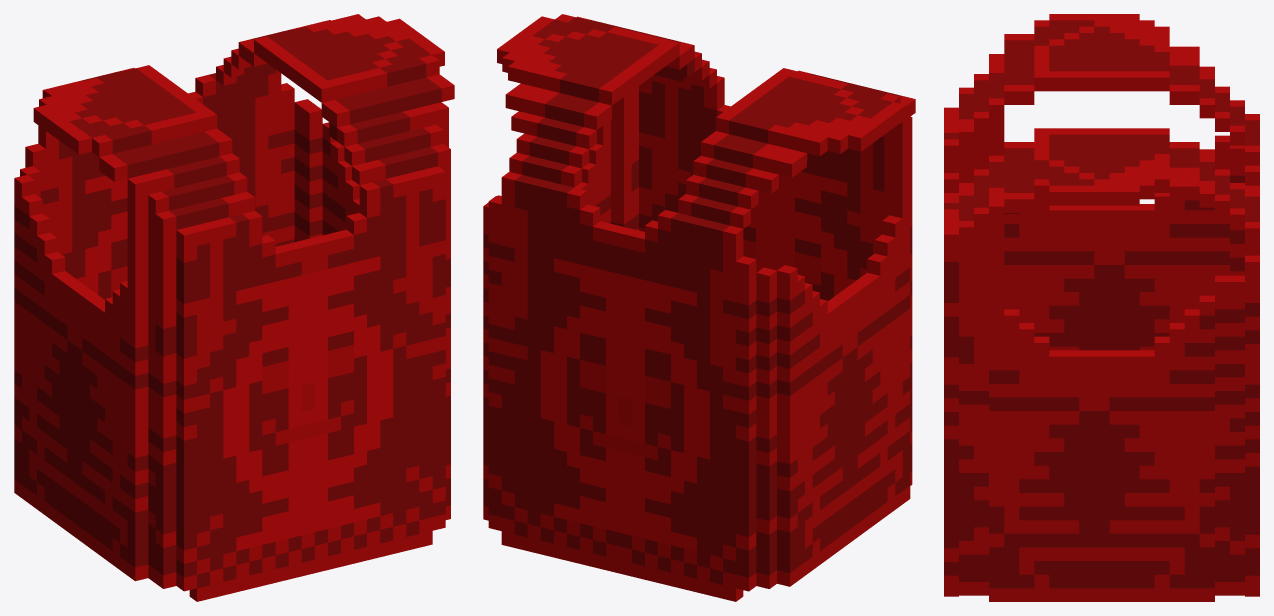
3 renders of one model, left to right at view 1: azimuth 30°, elevation 25°; view 2: azimuth 150°, elevation 25°; view 3: azimuth 270°, elevation 25°, orthographic.
Size of the model in its own units: 1.4 by 1.6 by 1.05.
